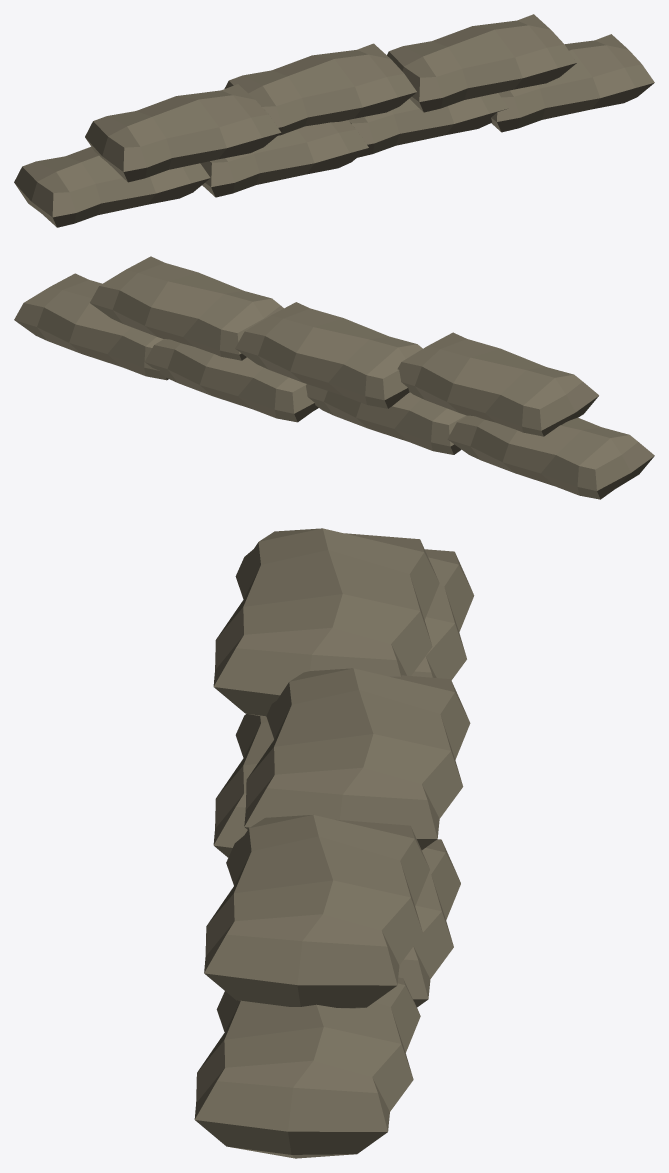
Rendered from Sandbag_2.fbx.
3 renders of one model, top to bottom at view 1: azimuth 30°, elevation 25°; view 2: azimuth 150°, elevation 25°; view 3: azimuth 270°, elevation 25°, orthographic. The views are drawn at different scales.
Visible parts, largest first — view 1: Sandbag_2; view 2: Sandbag_2; view 3: Sandbag_2.
Part boxes in pixels (x1,y1,x2,y2): Sandbag_2: (14, 14, 654, 227); Sandbag_2: (14, 256, 654, 499); Sandbag_2: (194, 528, 474, 1158).
Bounding box in the file's own units: 5.08 × 0.7461 × 1.04.
